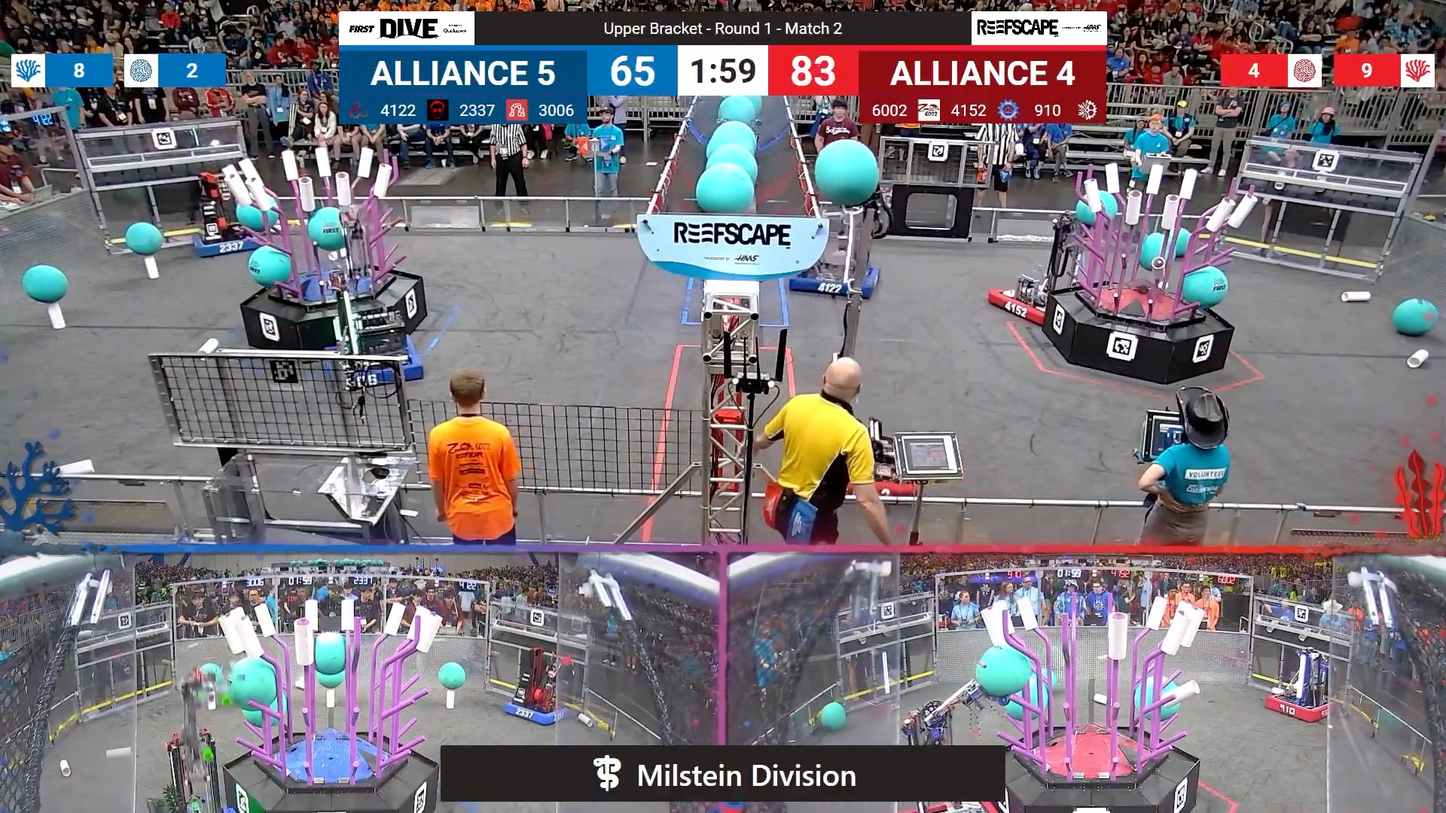bumpers: (318, 339, 426, 389), (783, 260, 884, 300), (983, 276, 1057, 330), (184, 222, 274, 262), (1259, 690, 1341, 724), (498, 695, 575, 730)
